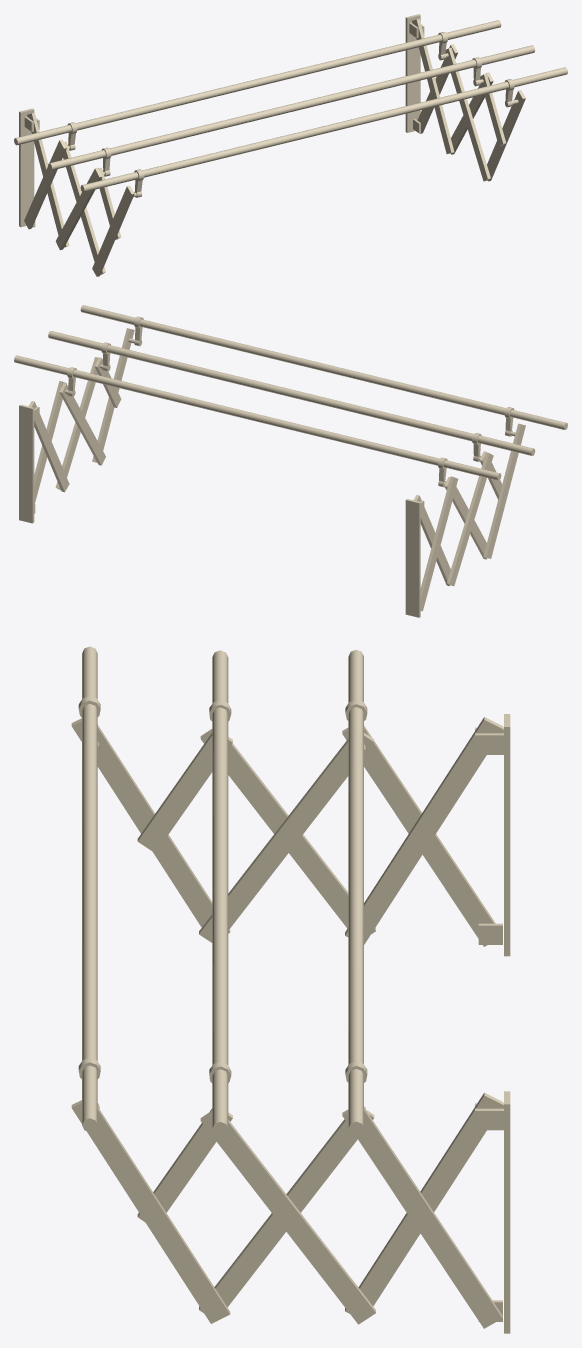
The model's file is Clothes_Hanger_A_Snaps004.FBX.
3 views of the same model, one above another, from view 1: azimuth 30°, elevation 25°; view 2: azimuth 150°, elevation 25°; view 3: azimuth 270°, elevation 25° (orthographic). The views are drawn at different scales.
Parts seen in each view (by area): view 1: Geometry_Clothes_Hanger_A_LOD00; view 2: Geometry_Clothes_Hanger_A_LOD00; view 3: Geometry_Clothes_Hanger_A_LOD00.
Part boxes in pixels (x1,y1,x2,y2): Geometry_Clothes_Hanger_A_LOD00: [14, 14, 567, 276]; Geometry_Clothes_Hanger_A_LOD00: [14, 305, 567, 617]; Geometry_Clothes_Hanger_A_LOD00: [71, 646, 510, 1333].
Size of what is drawn, in the model's own units: 229 by 58.57 by 89.89.
